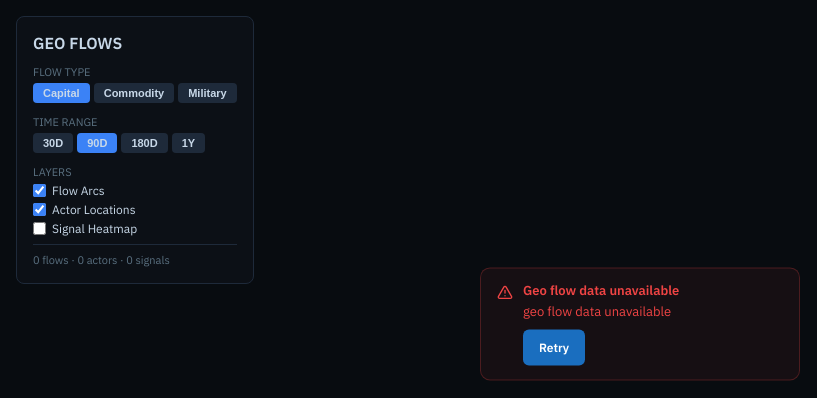
Test: GeoFlows view async data › shows an error state on failure and refetches on retry
This screenshot has width=817, height=398.
Expected: the text "geo flow data unavailable" is shown, [523,303,671,320]
What coordinates should you click on to do the following:
click the button "Retry"
I would click on:
 (554, 348)
Its box is [523,330,585,366].
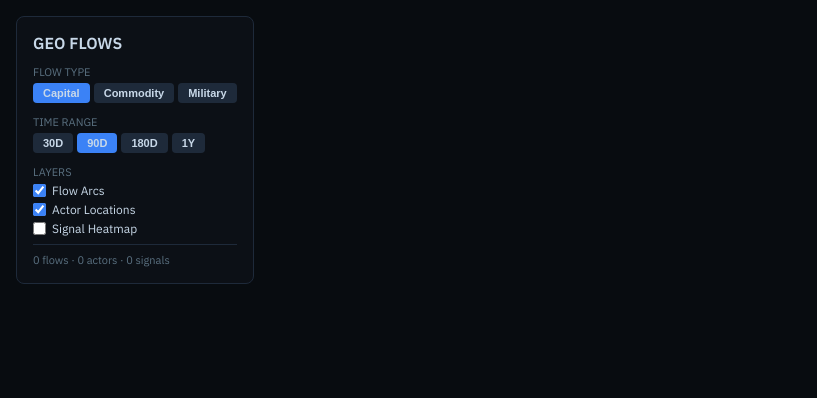
Result: the text "Geo flow data unavailable" is gone
